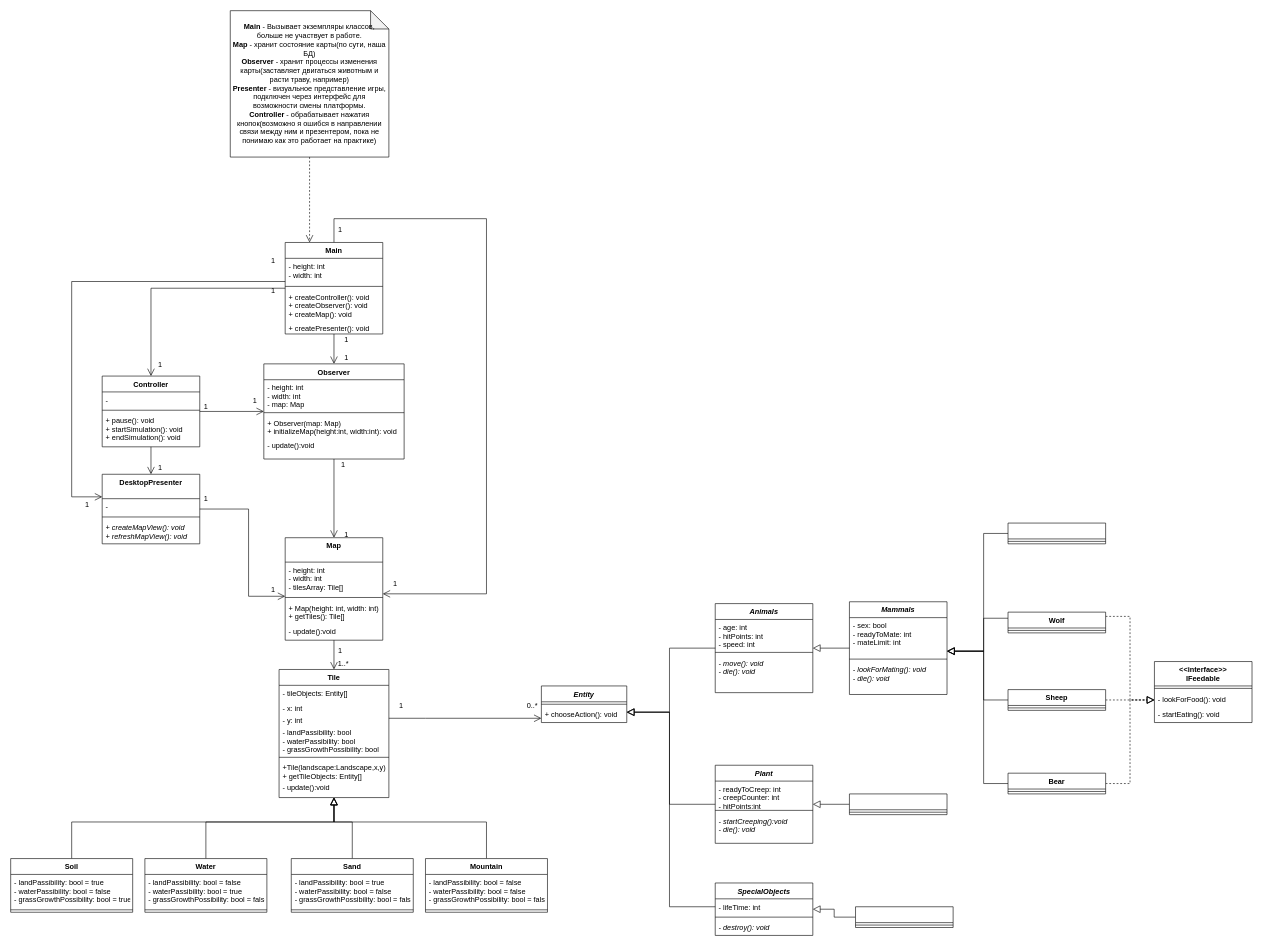
This 1263x948 diagram has some shape labels left out. Each missing label, with the centre of its shape:
"DeadBody" goes at (x=904, y=917).
"Grass" goes at (x=898, y=804).
"Tuna" goes at (x=1056, y=533).
